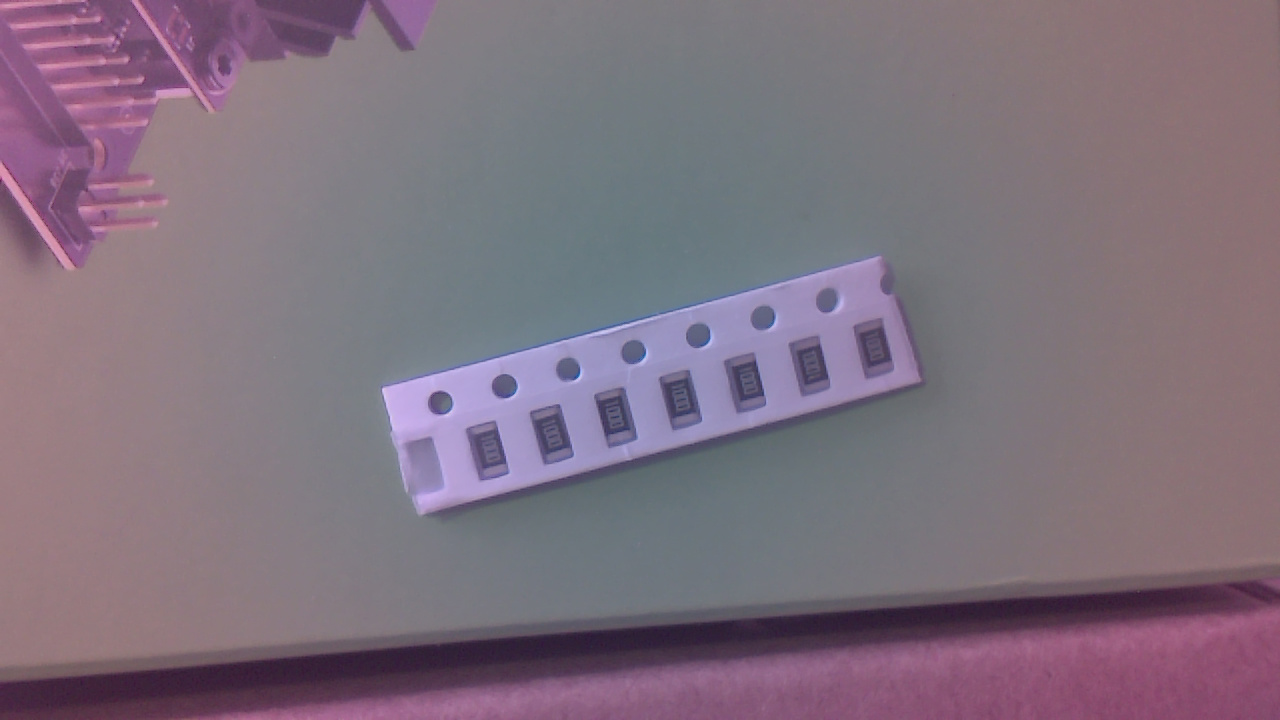Resistor: (533, 406, 581, 469), (599, 391, 644, 455), (471, 423, 514, 486), (664, 374, 706, 433), (796, 340, 835, 400), (861, 324, 898, 385), (731, 358, 769, 416)
